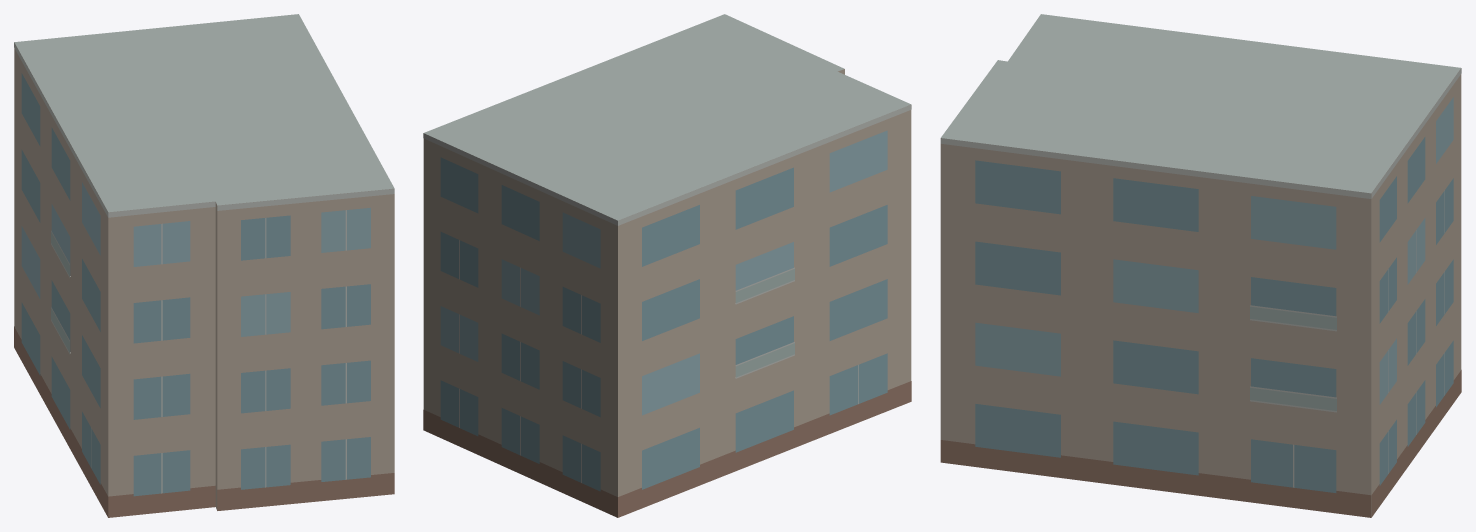
The model's file is survey-upis-32960257.glb.
3 renders of one model, left to right at view 1: azimuth 30°, elevation 25°; view 2: azimuth 150°, elevation 25°; view 3: azimuth 270°, elevation 25°, orthographic. The views are drawn at different scales.
Visible parts, largest first — view 1: survey-upis-32960257.tmp; view 2: survey-upis-32960257.tmp; view 3: survey-upis-32960257.tmp.
Part boxes in pixels (x1=…): survey-upis-32960257.tmp: x1=14, y1=14, x2=394, y2=517; survey-upis-32960257.tmp: x1=423, y1=14, x2=911, y2=517; survey-upis-32960257.tmp: x1=940, y1=14, x2=1461, y2=517.
Bounding box in the file's own units: 16.31 × 13.75 × 20.01.
